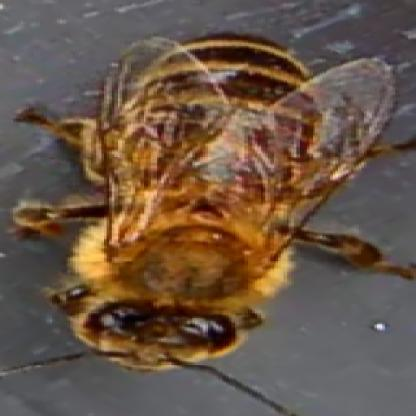bee: (101, 31, 286, 370)
